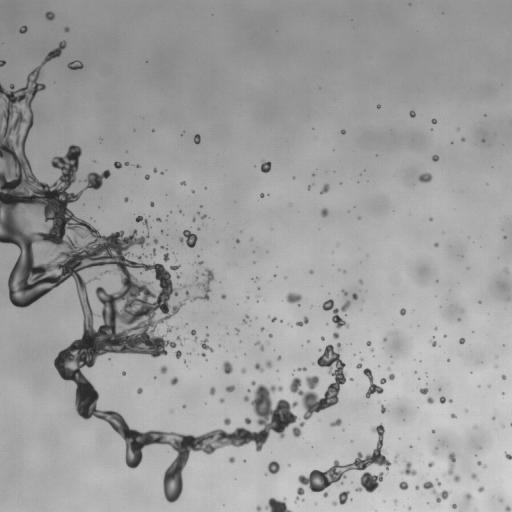droplet: (363, 368, 383, 397), (179, 230, 197, 247), (402, 462, 416, 475), (286, 293, 301, 304), (267, 461, 279, 474), (222, 361, 233, 373), (261, 161, 271, 172), (419, 173, 431, 182), (320, 184, 329, 194), (341, 301, 350, 311), (330, 418, 341, 426), (45, 11, 54, 20), (254, 363, 263, 372), (399, 481, 408, 490), (170, 377, 178, 385), (321, 208, 328, 217), (226, 385, 235, 392), (170, 265, 180, 271), (19, 26, 27, 33), (114, 161, 122, 168), (194, 134, 200, 143), (419, 388, 428, 394), (160, 366, 167, 373), (244, 417, 251, 424), (464, 493, 471, 500), (175, 350, 181, 358), (266, 360, 272, 368), (209, 387, 215, 395), (439, 396, 445, 403), (224, 418, 230, 425), (505, 452, 511, 459), (163, 253, 168, 261), (381, 405, 386, 413), (432, 155, 438, 161), (333, 332, 339, 338), (459, 338, 465, 344), (427, 397, 433, 403), (228, 457, 234, 463), (478, 486, 484, 492), (0, 60, 5, 67), (410, 110, 415, 117), (400, 308, 405, 315), (431, 339, 436, 346), (201, 214, 207, 219), (151, 250, 156, 256), (352, 293, 357, 299), (167, 326, 172, 332), (356, 362, 361, 368), (428, 461, 433, 467), (471, 473, 476, 479), (505, 506, 511, 511), (436, 479, 440, 486), (271, 317, 276, 322), (137, 388, 142, 393), (256, 506, 261, 511), (432, 118, 436, 124), (64, 27, 69, 31), (145, 174, 149, 179), (154, 238, 158, 243), (197, 261, 202, 265), (342, 290, 347, 294), (366, 341, 371, 345), (241, 368, 245, 373), (501, 375, 506, 379), (219, 398, 224, 402), (451, 414, 456, 418), (341, 130, 345, 134), (181, 181, 185, 185), (260, 193, 264, 197), (150, 202, 154, 206), (156, 217, 160, 221), (221, 294, 225, 298), (201, 352, 205, 356), (251, 381, 255, 385), (477, 461, 481, 465), (415, 485, 419, 489), (452, 504, 456, 508), (153, 168, 156, 172), (434, 243, 438, 246), (161, 246, 165, 249), (358, 280, 362, 283), (268, 334, 272, 337), (177, 336, 180, 340), (277, 356, 281, 359), (377, 105, 380, 108), (461, 138, 464, 141), (125, 162, 128, 165), (124, 198, 127, 201), (192, 218, 195, 221), (236, 239, 239, 242), (309, 270, 312, 273), (260, 327, 263, 330), (370, 348, 373, 351), (247, 389, 250, 392), (449, 399, 452, 402), (177, 274, 179, 278), (236, 328, 238, 332), (136, 165, 139, 167), (429, 218, 432, 220), (321, 337, 324, 339), (122, 372, 125, 374), (183, 405, 185, 408), (432, 430, 435, 432), (408, 507, 411, 509), (358, 217, 360, 219), (257, 287, 259, 289), (435, 327, 437, 329), (444, 335, 446, 337), (383, 338, 385, 340), (447, 359, 449, 361), (350, 378, 352, 380), (493, 417, 495, 419), (500, 499, 502, 501)
ligament: (0, 41, 298, 502), (295, 424, 390, 501), (290, 343, 346, 437), (322, 299, 348, 328), (422, 481, 449, 502), (445, 453, 460, 482), (265, 497, 291, 511), (200, 333, 213, 352), (332, 491, 349, 505), (135, 216, 149, 229), (380, 373, 394, 384), (67, 62, 83, 69), (296, 317, 308, 326), (254, 341, 263, 350), (190, 330, 197, 340), (242, 315, 248, 323), (297, 367, 306, 371), (102, 270, 109, 274)
